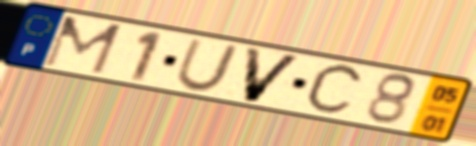1: (130, 30, 167, 85)
8: (362, 72, 419, 128)
C: (301, 62, 368, 118)
M: (39, 14, 127, 77)
U: (172, 37, 243, 94)
V: (242, 45, 306, 105)
